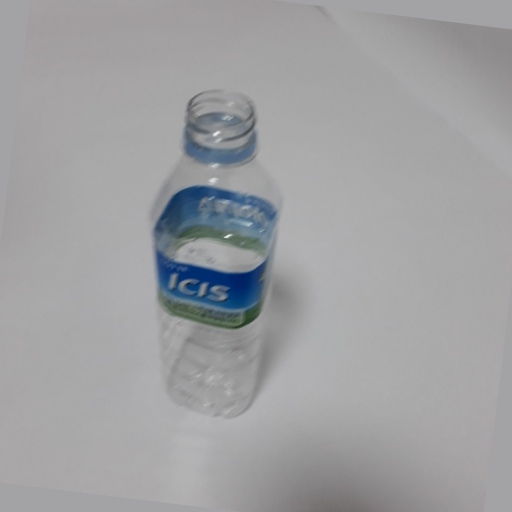Plastic_0: (140, 90, 289, 422)
